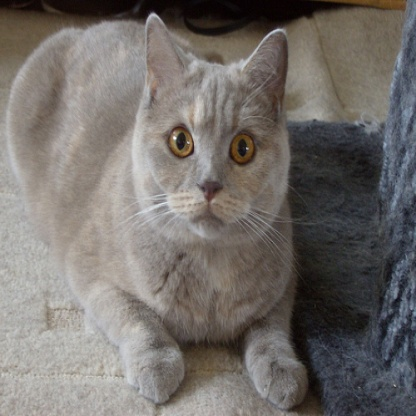british_shorthair: (7, 8, 309, 406)
